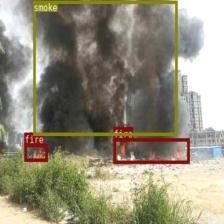fire: (113, 138, 189, 163), (24, 143, 47, 161)
smoke: (33, 0, 177, 135)
